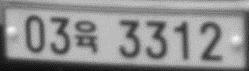0: (23, 12, 46, 53)
1: (169, 19, 194, 60)
2: (199, 19, 224, 62)
3: (143, 18, 167, 59), (117, 18, 141, 58), (47, 16, 71, 54)
육: (72, 18, 100, 54)
